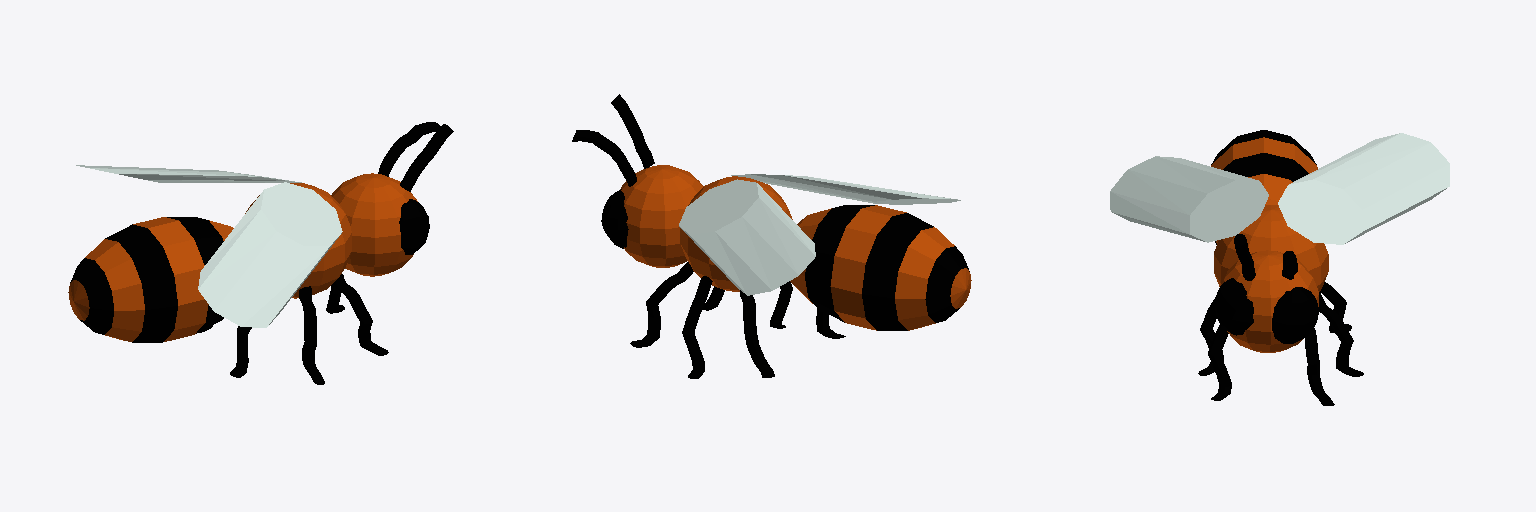
3 renders of one model, left to right at view 1: azimuth 30°, elevation 25°; view 2: azimuth 150°, elevation 25°; view 3: azimuth 270°, elevation 25°, orthographic.
Parts seen in each view (by area): view 1: group[number redacted], group[number redacted], group[number redacted], group[number redacted], group[number redacted], group[number redacted], group[number redacted], group[number redacted], group[number redacted], group[number redacted], group[number redacted]; view 2: group[number redacted], group[number redacted], group[number redacted], group[number redacted], group[number redacted], group[number redacted], group[number redacted], group[number redacted], group[number redacted], group[number redacted], group[number redacted], group[number redacted]; view 3: group[number redacted], group[number redacted], group[number redacted], group[number redacted], group[number redacted], group[number redacted], group[number redacted], group[number redacted], group[number redacted], group[number redacted], group[number redacted], group[number redacted].
Part boxes in pixels (bbox=[...]): group[number redacted]: bbox=[68, 217, 233, 342]; group[number redacted]: bbox=[198, 182, 342, 327]; group[number redacted]: bbox=[331, 173, 417, 276]; group[number redacted]: bbox=[245, 183, 351, 298]; group[number redacted]: bbox=[76, 165, 301, 182]; group[number redacted]: bbox=[399, 199, 429, 254]; group[number redacted]: bbox=[299, 286, 324, 384]; group[number redacted]: bbox=[333, 274, 388, 355]; group[number redacted]: bbox=[400, 124, 453, 191]; group[number redacted]: bbox=[378, 122, 440, 176]; group[number redacted]: bbox=[230, 326, 251, 377]; group[number redacted]: bbox=[790, 205, 971, 330]; group[number redacted]: bbox=[679, 179, 815, 295]; group[number redacted]: bbox=[620, 165, 703, 267]; group[number redacted]: bbox=[731, 174, 960, 204]; group[number redacted]: bbox=[680, 176, 792, 291]; group[number redacted]: bbox=[682, 276, 712, 378]; group[number redacted]: bbox=[630, 262, 693, 347]; group[number redacted]: bbox=[601, 189, 628, 248]; group[number redacted]: bbox=[740, 290, 774, 377]; group[number redacted]: bbox=[572, 130, 636, 186]; group[number redacted]: bbox=[611, 94, 654, 168]; group[number redacted]: bbox=[770, 281, 792, 328]; group[number redacted]: bbox=[1278, 133, 1449, 244]; group[number redacted]: bbox=[1110, 156, 1268, 242]; group[number redacted]: bbox=[1211, 130, 1317, 244]; group[number redacted]: bbox=[1222, 250, 1318, 352]; group[number redacted]: bbox=[1214, 205, 1328, 291]; group[number redacted]: bbox=[1272, 287, 1318, 343]; group[number redacted]: bbox=[1214, 278, 1253, 335]; group[number redacted]: bbox=[1319, 292, 1363, 376]; group[number redacted]: bbox=[1208, 324, 1231, 400]; group[number redacted]: bbox=[1305, 328, 1334, 405]; group[number redacted]: bbox=[1234, 234, 1255, 280]; group[number redacted]: bbox=[1198, 299, 1223, 375].
Bounding box in the file's own units: 0.3391 × 0.1792 × 0.2624.